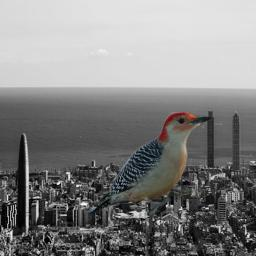Woodpecker: (88, 112, 216, 216)
